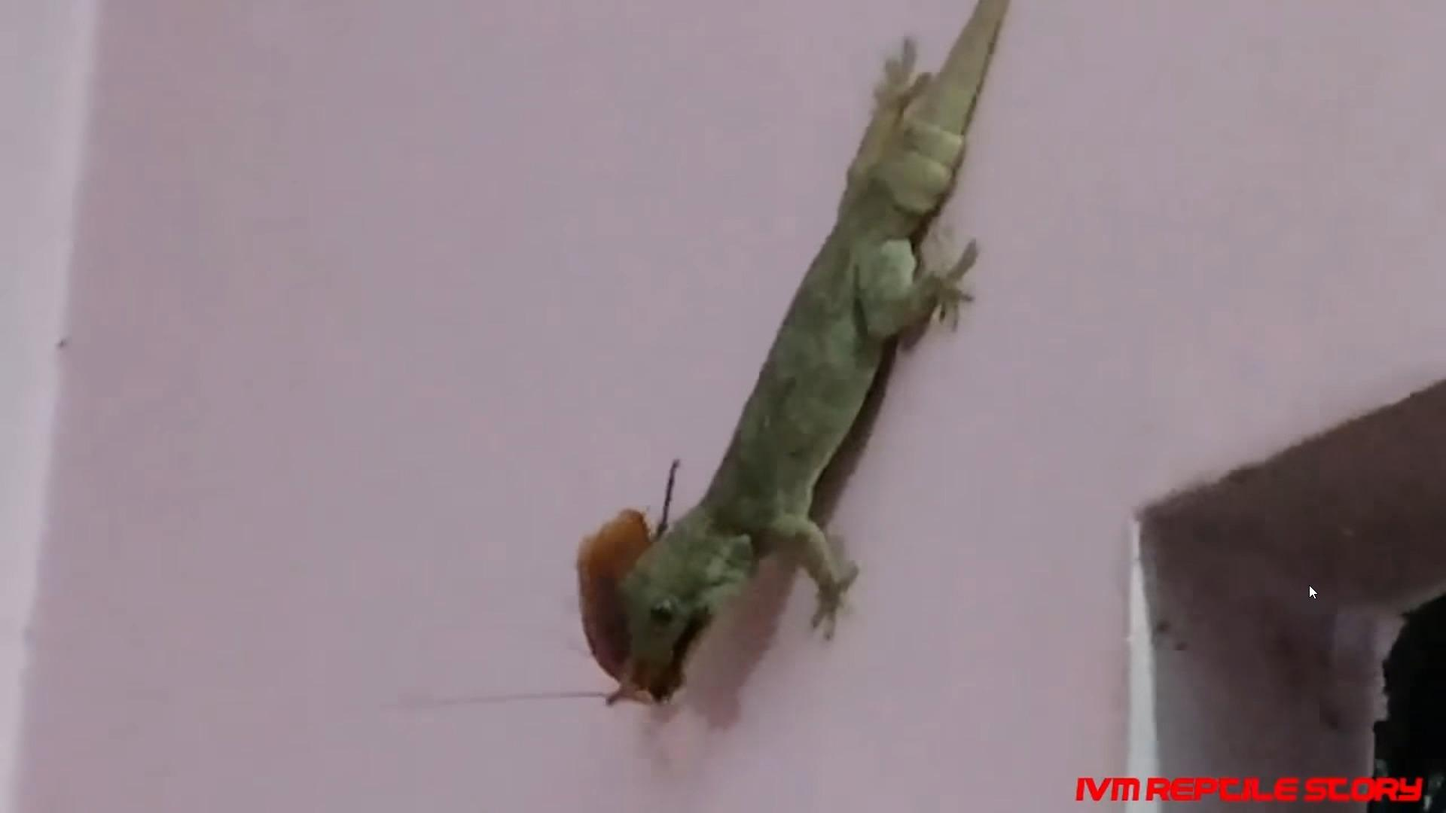cockroach: (568, 515, 667, 696)
lizard: (642, 58, 981, 666)
